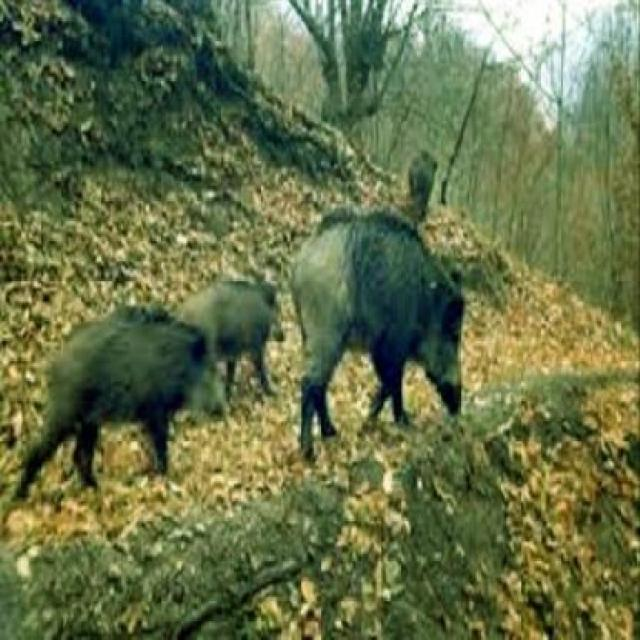wildboar: (289, 199, 471, 467), (8, 299, 221, 506), (169, 264, 289, 405)
